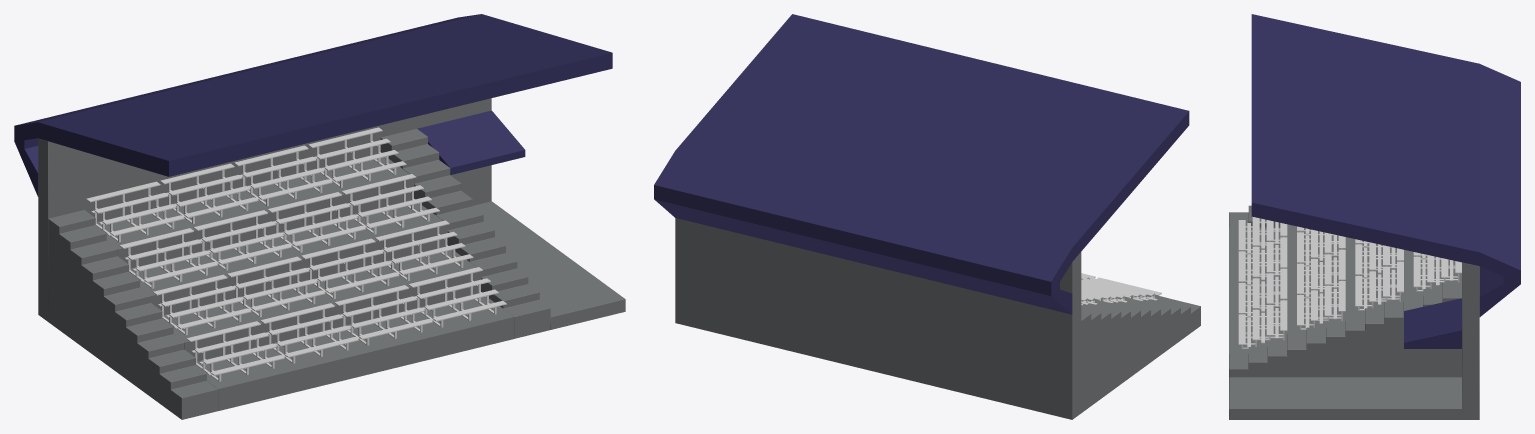
File: AthleticsStands.fbx
3 renders of one model, left to right at view 1: azimuth 30°, elevation 25°; view 2: azimuth 150°, elevation 25°; view 3: azimuth 270°, elevation 25°, orthographic. The views are drawn at different scales.
Parts seen in each view (by area): view 1: Cube.003, Beton, Bancs, Marches, Cube.002, Cube.001, Cube; view 2: Cube.003, Cube.002, Marches, Bancs; view 3: Cube.003, Bancs, Marches, Cube.001, Beton, Cube.002, Cube.
Part boxes in pixels (<box>): Cube.003: <box>14,14,612,196</box>; Beton: <box>97,153,514,410</box>; Bancs: <box>86,127,506,381</box>; Marches: <box>48,129,550,419</box>; Cube.002: <box>38,98,491,321</box>; Cube.001: <box>472,201,625,329</box>; Cube: <box>417,110,525,174</box>; Cube.003: <box>654,14,1189,314</box>; Cube.002: <box>675,218,1081,419</box>; Marches: <box>1081,298,1200,412</box>; Bancs: <box>1081,273,1161,305</box>; Cube.003: <box>1251,14,1520,316</box>; Bancs: <box>1238,217,1461,348</box>; Marches: <box>1229,205,1461,377</box>; Cube.001: <box>1229,377,1461,419</box>; Beton: <box>1229,224,1461,353</box>; Cube.002: <box>1462,262,1479,419</box>; Cube: <box>1404,298,1461,348</box>.
Bounding box in the file's own units: 2684 × 1443 × 1755.
